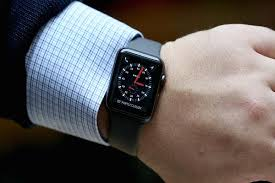clock: (118, 63, 152, 102)
